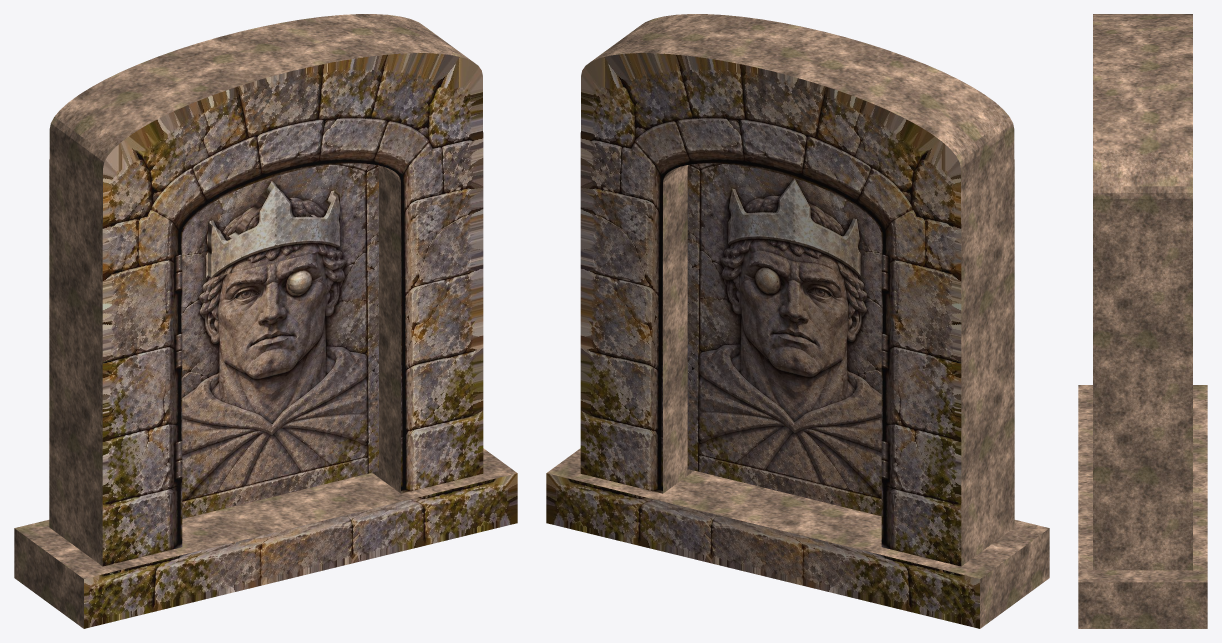
The model's file is warden-door.glb.
3 views of the same model, side by side, from view 1: azimuth 30°, elevation 25°; view 2: azimuth 150°, elevation 25°; view 3: azimuth 270°, elevation 25° (orthographic). The views are drawn at different scales.
Parts seen in each view (by area): view 1: warden-door, leaf, crown; view 2: warden-door, leaf; view 3: warden-door.
Boxes of the visible parts, left/top/right/bottom form: warden-door: left=14, top=14, right=517, bottom=628; leaf: left=182, top=163, right=378, bottom=518; crown: left=208, top=183, right=339, bottom=277; warden-door: left=546, top=14, right=1049, bottom=628; leaf: left=687, top=163, right=881, bottom=516; warden-door: left=1078, top=14, right=1207, bottom=628.
Size of the model in its own units: 1.87 by 2.06 by 0.52.
2 materials, 2 textured.
